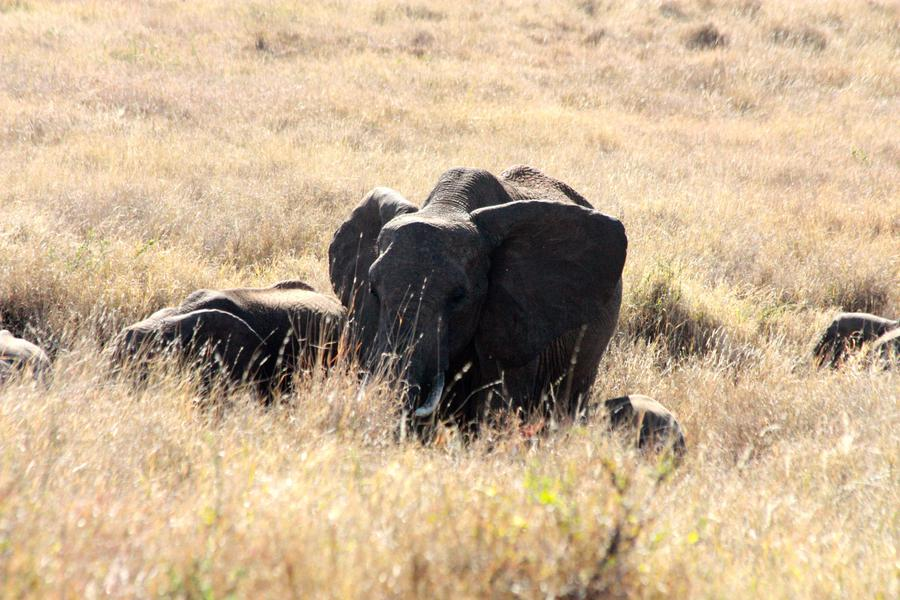elephant: (356, 205, 509, 397)
